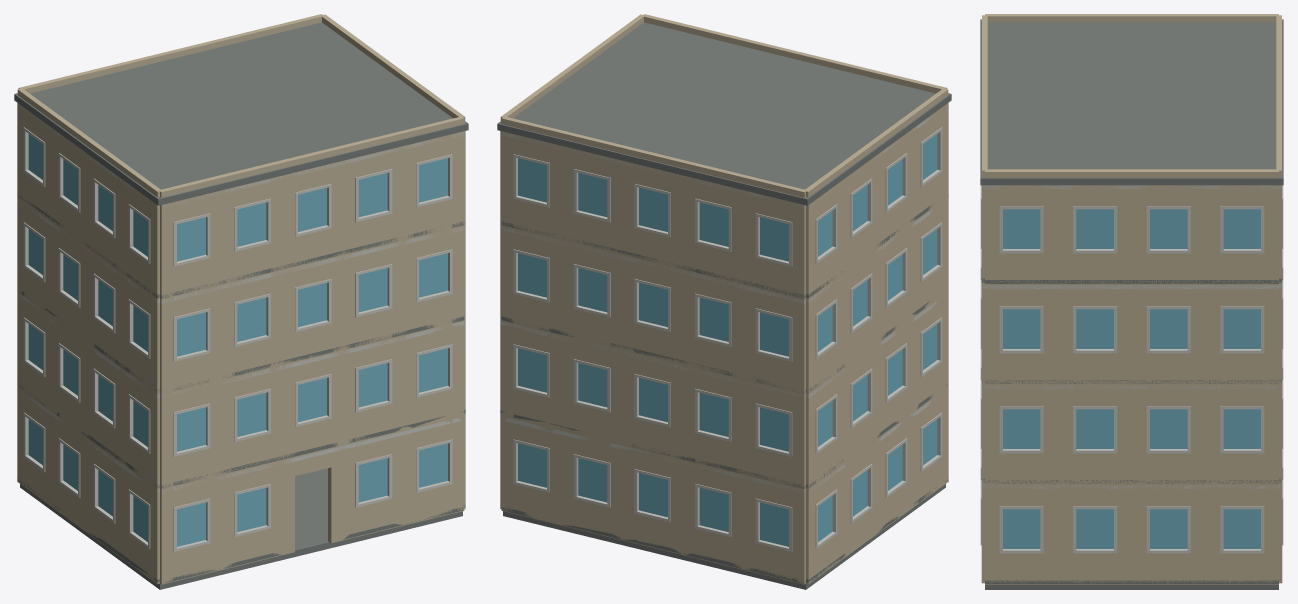
The model's file is architecture-apartment.lod0.glb.
3 renders of one model, left to right at view 1: azimuth 30°, elevation 25°; view 2: azimuth 150°, elevation 25°; view 3: azimuth 270°, elevation 25°, orthographic. The views are drawn at different scales.
Visible parts, largest first — view 1: architecture-apartment__body; view 2: architecture-apartment__body; view 3: architecture-apartment__body.
Boxes of the visible parts, box(x1,y1,x2,y2) form: architecture-apartment__body: box(14, 14, 468, 589); architecture-apartment__body: box(497, 14, 951, 589); architecture-apartment__body: box(980, 14, 1283, 589).
Bounding box in the file's own units: 10.25 × 12.58 × 8.25.
